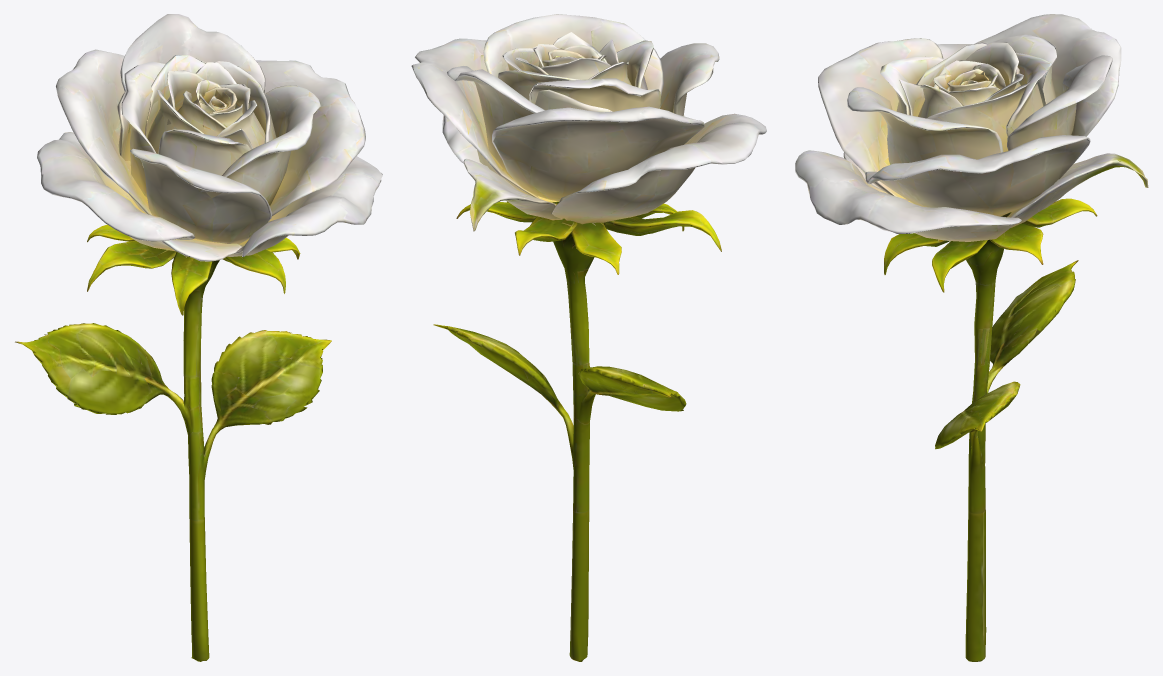
Rendered from rose_white.glb.
The picture shows the model from 3 angles, left to right: view 1: azimuth 30°, elevation 25°; view 2: azimuth 150°, elevation 25°; view 3: azimuth 270°, elevation 25°; orthographic projection. The views are drawn at different scales.
Visible parts, largest first — view 1: geometry_0; view 2: geometry_0; view 3: geometry_0.
Boxes of the visible parts, left/top/right/bottom form: geometry_0: left=15, top=14, right=382, bottom=661; geometry_0: left=411, top=14, right=766, bottom=661; geometry_0: left=795, top=14, right=1148, bottom=661.
Size of the model in its own units: 0.5151 by 0.9521 by 0.4927.
Materials: 1 (1 with a texture image).
